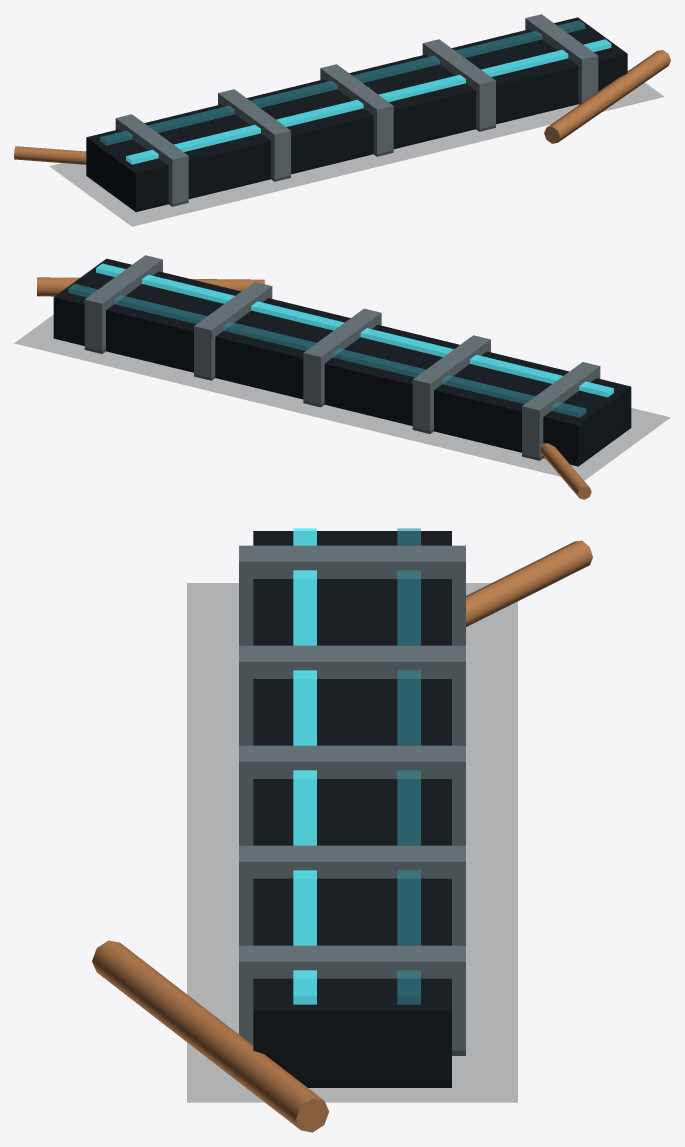
File: hp_room_cyber_cable_trunk.glb
3 views of the same model, one above another, from view 1: azimuth 30°, elevation 25°; view 2: azimuth 150°, elevation 25°; view 3: azimuth 270°, elevation 25° (orthographic). The views are drawn at different scales.
Parts seen in each view (by area): view 1: trunk_body, contact_shadow, pulse_seam, pulse_seam_dim, spill_cable_a, rib_0, rib_2, rib_3, rib_1, rib_4, spill_cable_b; view 2: trunk_body, contact_shadow, pulse_seam, pulse_seam_dim, rib_3, rib_4, rib_2, rib_1, rib_0, spill_cable_a, spill_cable_b; view 3: trunk_body, contact_shadow, spill_cable_a, rib_0, rib_4, rib_1, rib_2, rib_3, pulse_seam, pulse_seam_dim, spill_cable_b.
Part boxes in pixels (<box>): trunk_body: <box>86,17,627,211</box>; contact_shadow: <box>50,70,663,226</box>; pulse_seam: <box>126,39,611,164</box>; pulse_seam_dim: <box>100,20,585,145</box>; spill_cable_a: <box>544,50,670,143</box>; rib_0: <box>115,114,188,206</box>; rib_2: <box>320,64,393,156</box>; rib_3: <box>422,39,495,131</box>; rib_1: <box>218,89,290,181</box>; rib_4: <box>525,14,598,104</box>; spill_cable_b: <box>14,146,86,164</box>; trunk_body: <box>53,258,631,466</box>; contact_shadow: <box>15,315,670,480</box>; pulse_seam: <box>96,263,613,397</box>; pulse_seam_dim: <box>68,284,586,417</box>; rib_3: <box>194,282,272,380</box>; rib_4: <box>84,255,162,353</box>; rib_2: <box>303,308,381,407</box>; rib_1: <box>412,335,490,433</box>; rib_0: <box>522,362,600,460</box>; spill_cable_a: <box>37,277,264,296</box>; spill_cable_b: <box>540,443,591,499</box>; trunk_body: <box>253,531,451,1087</box>; contact_shadow: <box>187,583,517,1102</box>; spill_cable_a: <box>92,940,329,1132</box>; rib_0: <box>239,545,465,645</box>; rib_4: <box>239,945,465,1055</box>; rib_1: <box>239,645,465,745</box>; rib_2: <box>239,745,465,845</box>; rib_3: <box>239,845,465,945</box>; pulse_seam: <box>293,528,316,1004</box>; pulse_seam_dim: <box>397,528,420,1004</box>; spill_cable_b: <box>466,540,592,627</box>.
Size of the model in its own units: 2.87 by 0.22 by 1.06.
